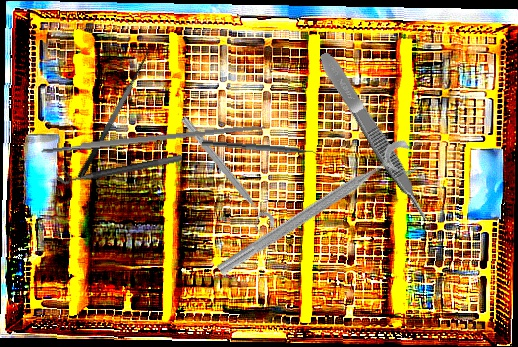Chopper: (201, 139, 325, 163)
Fixation Ring: (212, 136, 424, 293), (171, 113, 279, 238), (55, 144, 183, 186)
Scalpel Handle: (39, 122, 266, 155)
Spatula Surgical: (66, 44, 157, 180)
Tissue Forceps: (315, 48, 434, 226)
